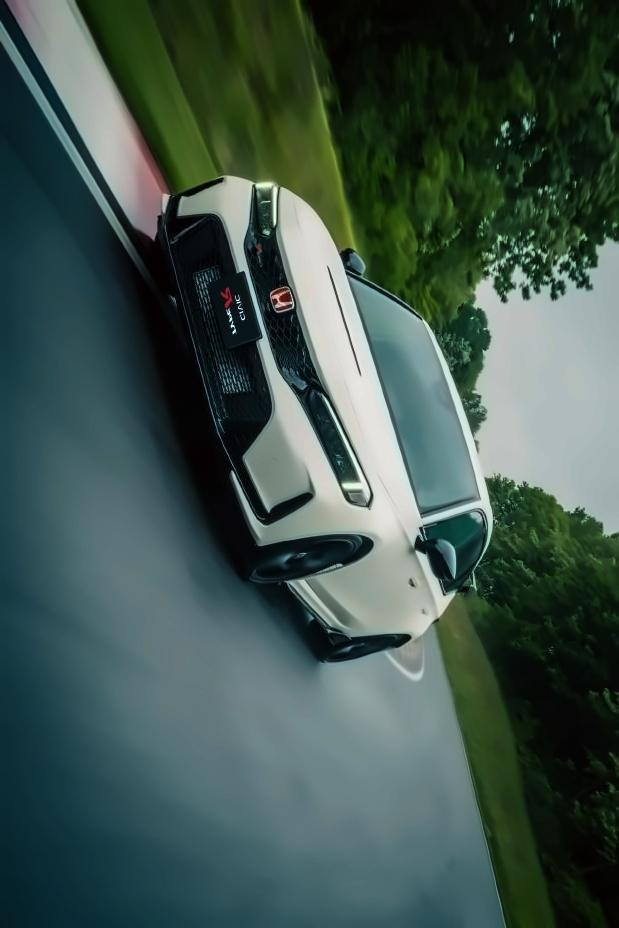Car hood: (271, 184, 419, 530)
Fender - -R-L-: (377, 581, 443, 664)
Front bumper: (155, 172, 331, 576)
Headlight - -L-: (304, 385, 373, 508)
Headlight - -R-: (247, 179, 285, 240)
Passenger-s door - -F-L-: (284, 502, 499, 610)
Side bumper - -L-: (274, 569, 355, 649)
Side mirror - -L-: (420, 536, 459, 589)
Side mirror - -R-: (338, 248, 368, 279)
